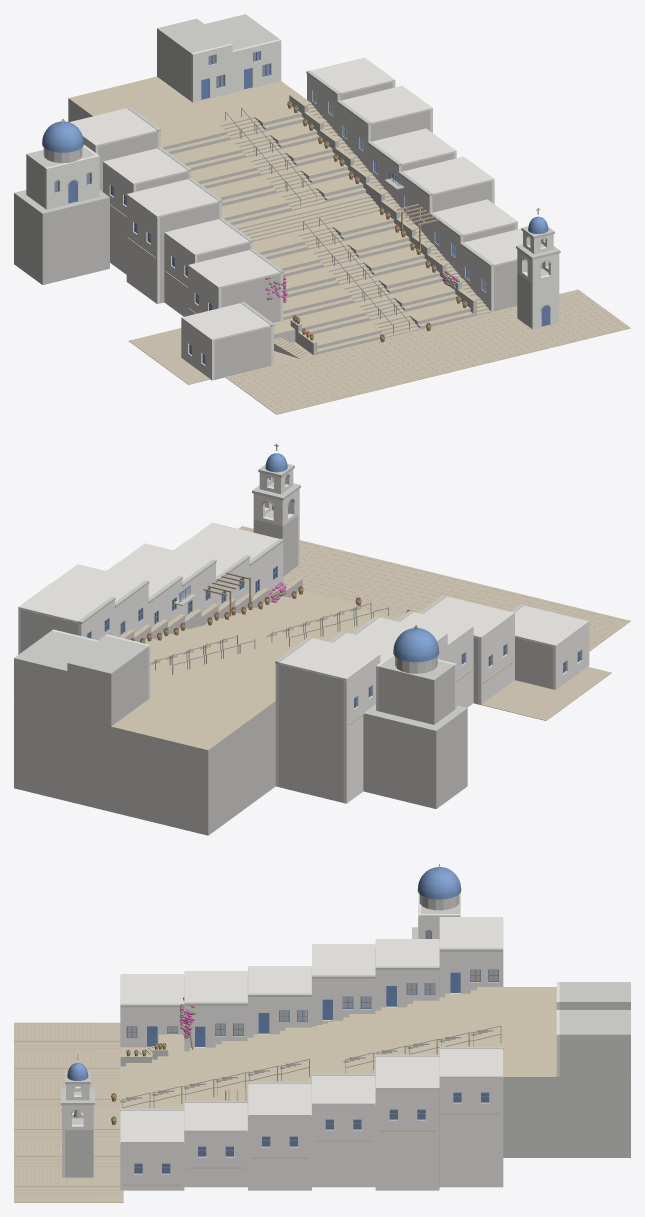
The model's file is clay-stepped-terraced-plaza-clay-v003.glb.
3 views of the same model, one above another, from view 1: azimuth 30°, elevation 25°; view 2: azimuth 150°, elevation 25°; view 3: azimuth 270°, elevation 25° (orthographic). The views are drawn at different scales.
Visible parts, largest first — view 1: CLAY_WHITE, CLAY_STONE, CLAY_WALL, CLAY_ROOF, CLAY_PAVING, CLAY_JOINT, CLAY_BLUE, CLAY_DOME, CLAY_HARDWARE, CLAY_GLASS, CLAY_PLANTING; view 2: CLAY_WHITE, CLAY_STONE, CLAY_ROOF, CLAY_WALL, CLAY_PAVING, CLAY_JOINT, CLAY_DOME, CLAY_HARDWARE, CLAY_BLUE; view 3: CLAY_WALL, CLAY_STONE, CLAY_WHITE, CLAY_ROOF, CLAY_PAVING, CLAY_BLUE, CLAY_JOINT, CLAY_GLASS, CLAY_DOME, CLAY_HARDWARE, CLAY_FLOOR.
Part boxes in pixels (x1=…): CLAY_WHITE: x1=14, y1=14, x2=560, y2=379; CLAY_STONE: x1=68, y1=76, x2=491, y2=358; CLAY_WALL: x1=45, y1=39, x2=559, y2=380; CLAY_ROOF: x1=69, y1=57, x2=522, y2=340; CLAY_PAVING: x1=129, y1=289, x2=630, y2=414; CLAY_JOINT: x1=230, y1=292, x2=627, y2=412; CLAY_BLUE: x1=54, y1=51, x2=549, y2=364; CLAY_DOME: x1=42, y1=121, x2=548, y2=233; CLAY_HARDWARE: x1=225, y1=107, x2=542, y2=334; CLAY_GLASS: x1=55, y1=52, x2=486, y2=363; CLAY_PLANTING: x1=266, y1=102, x2=467, y2=338; CLAY_WHITE: x1=14, y1=443, x2=552, y2=835; CLAY_STONE: x1=14, y1=577, x2=513, y2=750; CLAY_ROOF: x1=18, y1=522, x2=589, y2=680; CLAY_WALL: x1=18, y1=469, x2=589, y2=803; CLAY_PAVING: x1=238, y1=526, x2=630, y2=720; CLAY_JOINT: x1=242, y1=527, x2=624, y2=646; CLAY_DOME: x1=265, y1=453, x2=439, y2=662; CLAY_HARDWARE: x1=155, y1=507, x2=388, y2=674; CLAY_BLUE: x1=87, y1=566, x2=581, y2=707; CLAY_WALL: x1=62, y1=893, x2=559, y2=1190; CLAY_STONE: x1=120, y1=987, x2=630, y2=1185; CLAY_WHITE: x1=60, y1=864, x2=630, y2=1188; CLAY_ROOF: x1=120, y1=917, x2=502, y2=1143; CLAY_PAVING: x1=14, y1=1022, x2=176, y2=1202; CLAY_BLUE: x1=126, y1=930, x2=498, y2=1173; CLAY_JOINT: x1=14, y1=1023, x2=119, y2=1201; CLAY_GLASS: x1=127, y1=930, x2=498, y2=1173; CLAY_DOME: x1=67, y1=867, x2=461, y2=1080; CLAY_HARDWARE: x1=73, y1=1025, x2=501, y2=1117; CLAY_FLOOR: x1=127, y1=970, x2=498, y2=1155.
Size of the model in its own units: 44.8 by 16 by 58.
